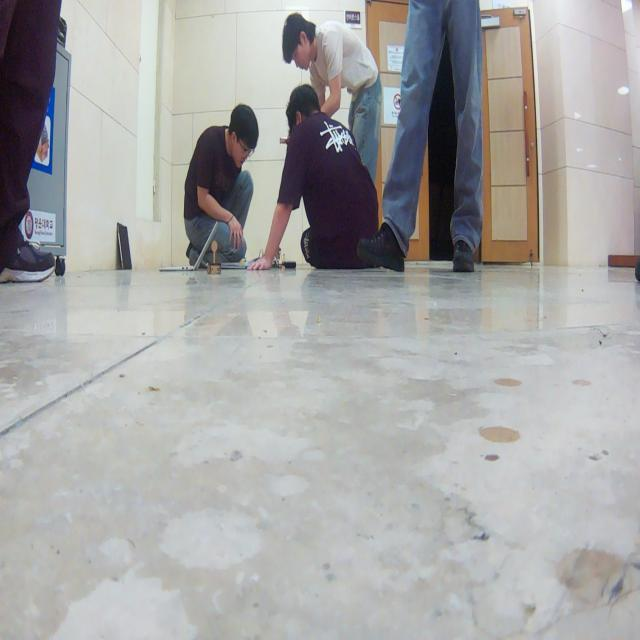target: (207, 240, 221, 274)
